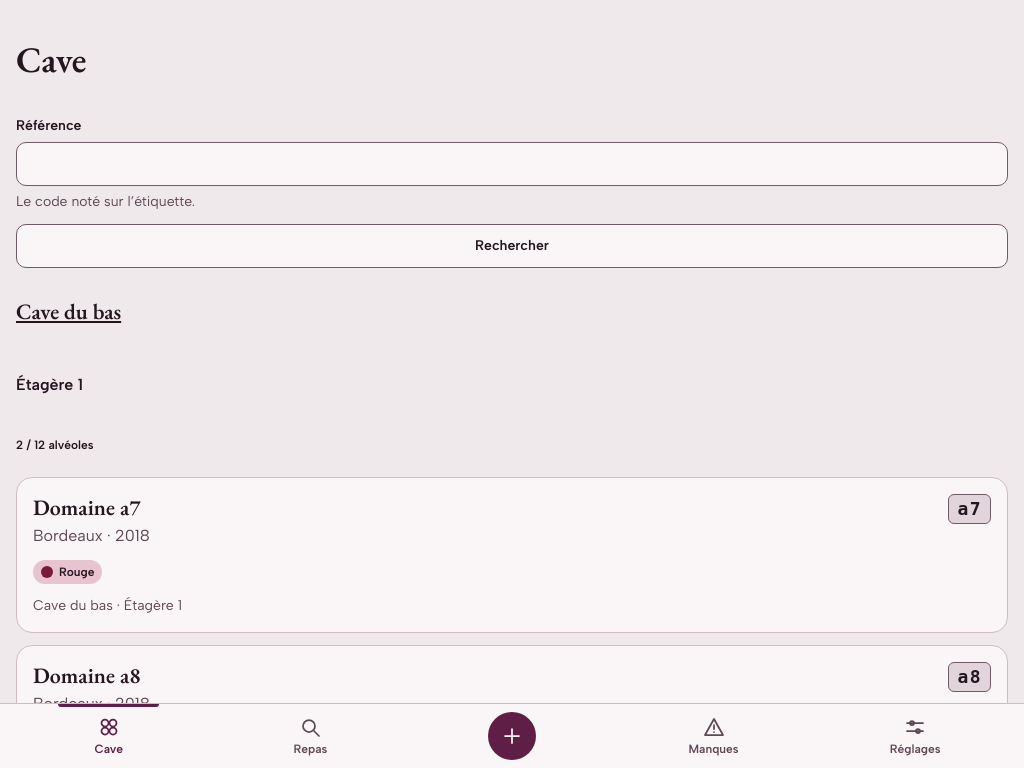
it: Recherche par référence (CdC §2.3) › référence vide : refusée avant l’envoi
Click the button "Rechercher" at {"x": 512, "y": 246}, box [16,224,1008,268]
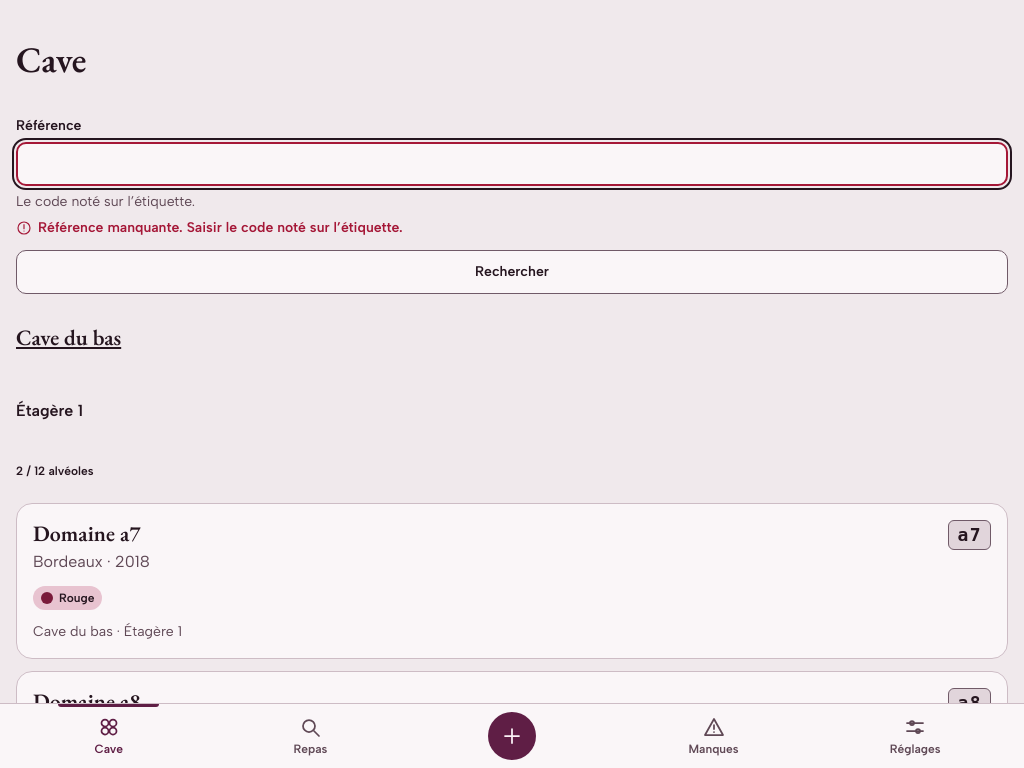
Now the text "Référence manquante. Saisir le code noté sur l’étiquette." is shown, box [16,219,403,236]
